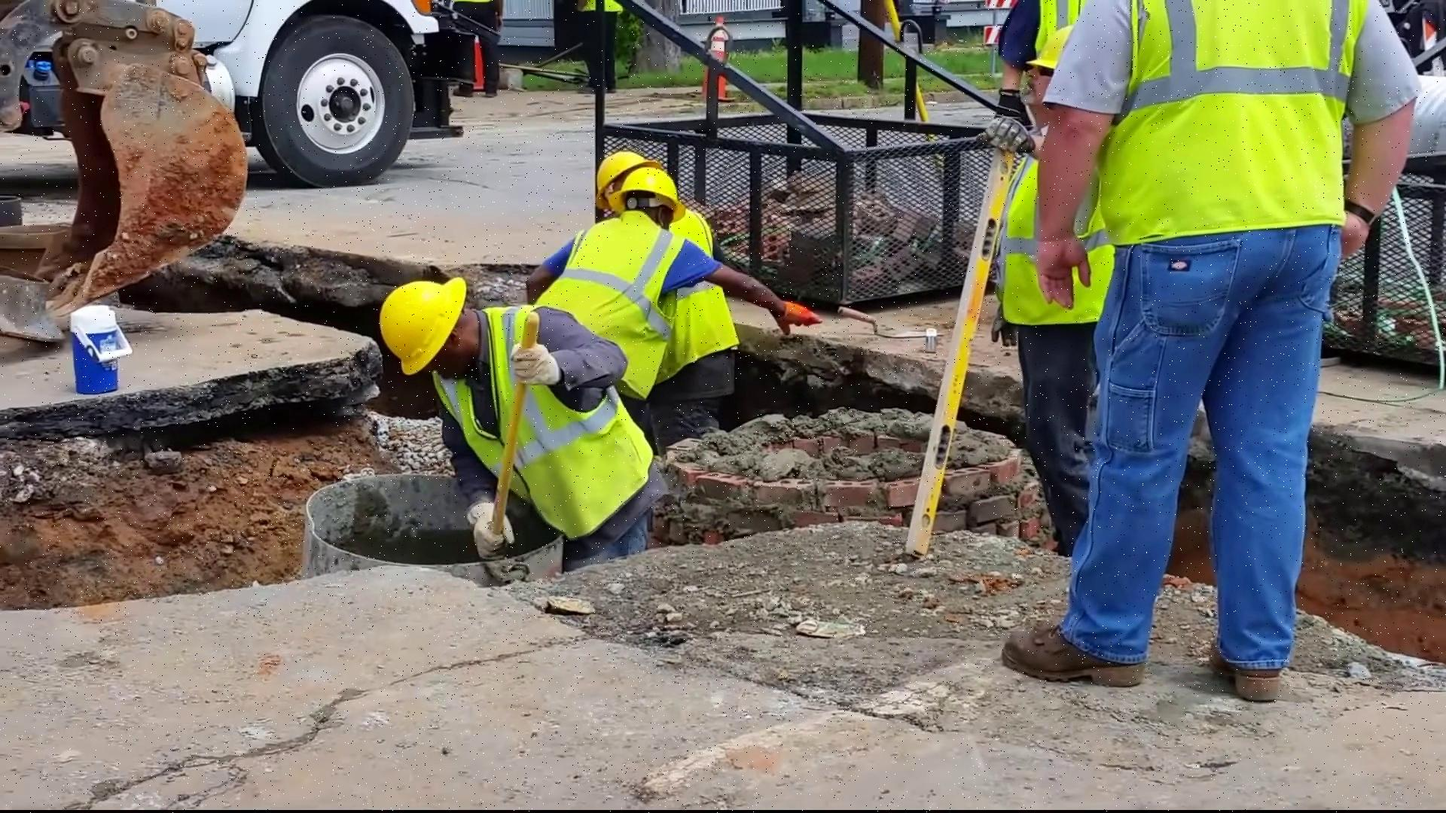Hard_hat: (366, 285, 492, 371), (609, 163, 681, 226), (588, 142, 657, 182)
Vest: (1078, 0, 1387, 255), (439, 330, 650, 565), (543, 222, 697, 386), (666, 203, 783, 409), (989, 154, 1117, 331)
